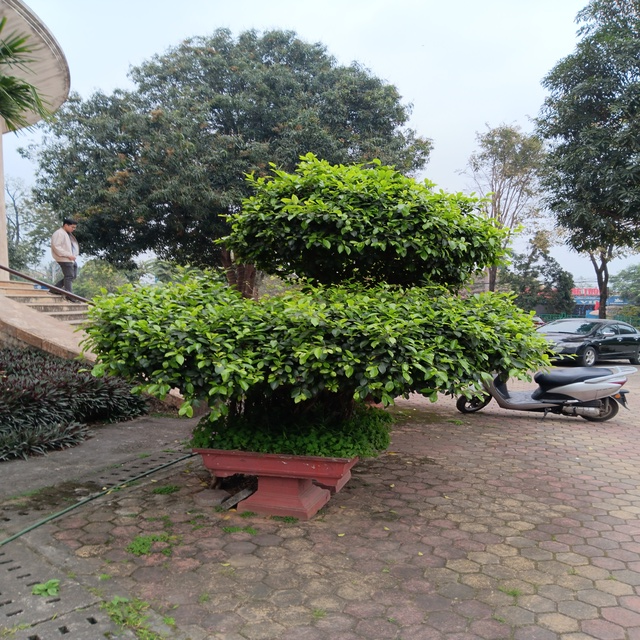caycanh: (77, 148, 556, 525)
